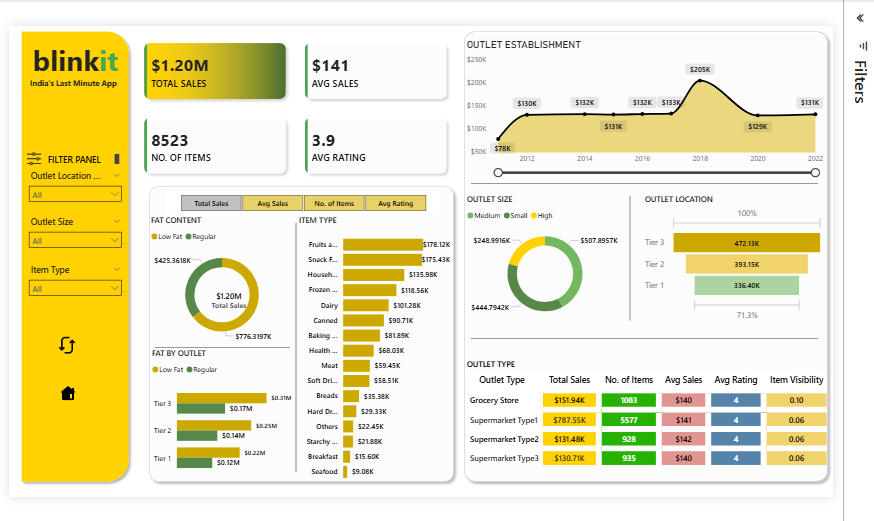

What the dashboard file says about the page in this screenshot:
{"tool":"powerbi","page":{"name":"Dashboard","canvas":[1400,800],"ordinal":0},"visuals":[{"type":"shape","box":[11.9,0,200.5,783.3],"z":0},{"type":"textbox","box":[24.4,18.3,178.3,79.2],"z":1000},{"type":"textbox","box":[30.5,83.8,161.5,27.4],"z":2000},{"type":"cardVisual","fields":{"Data":["BlinkIT Grocery Data.Total Sales","BlinkIT Grocery Data.Avg Sales","BlinkIT Grocery Data.No. of Items","BlinkIT Grocery Data.Avg Rating"]},"box":[200.5,0,572.6,280.3],"z":3000},{"type":"shape","box":[229.4,263.3,535.2,519.9],"z":4000},{"type":"donutChart","title":"FAT CONTENT","fields":{"Y":["BlinkIT Grocery Data.Total Sales"],"Category":["BlinkIT Grocery Data.Item Fat Content"]},"box":[236.2,321.1,251.5,226],"z":5000},{"type":"slicer","fields":{"Values":["Metrics .Metrics "]},"box":[266.7,280.3,465.5,40.8],"z":6000},{"type":"cardVisual","fields":{"Data":["BlinkIT Grocery Data.Total Sales"]},"box":[312.6,429.9,122.3,73.1],"z":7000},{"type":"clusteredBarChart","title":"FAT BY OUTLET","fields":{"Y":["BlinkIT Grocery Data.Total Sales"],"Category":["BlinkIT Grocery Data.Outlet Location Type"],"Series":["BlinkIT Grocery Data.Item Fat Content"]},"box":[237.9,547.1,251.5,229.4],"z":8000},{"type":"shape","box":[248.1,538.6,229.4,15.3],"z":9000},{"type":"shape","box":[477.4,334.7,20.4,423.1],"z":10000},{"type":"barChart","title":"ITEM TYPE","fields":{"Y":["BlinkIT Grocery Data.Total Sales"],"Category":["BlinkIT Grocery Data.Item Type"]},"box":[487.6,321.1,266.7,462.1],"z":11000},{"type":"shape","box":[764.6,0,635.4,783.3],"z":12000},{"type":"lineChart","title":"OUTLET ESTABLISHMENT ","fields":{"Y":["BlinkIT Grocery Data.Total Sales"],"Category":["BlinkIT Grocery Data.Outlet Establishment Year"]},"box":[773.1,22.1,615,237.9],"z":13000},{"type":"shape","box":[785,260,589.6,15.3],"z":14000},{"type":"donutChart","title":"OUTLET SIZE ","fields":{"Y":["BlinkIT Grocery Data.Total Sales"],"Category":["BlinkIT Grocery Data.Outlet Size"]},"box":[773.1,285.4,275.2,226],"z":15000},{"type":"shape","box":[1048.3,288.8,13.6,212.4],"z":16000},{"type":"funnel","title":"OUTLET LOCATION","fields":{"Y":["Sum(BlinkIT Grocery Data.Sales)"],"Category":["BlinkIT Grocery Data.Outlet Location Type"]},"box":[1075.5,285.4,312.6,220.9],"z":17000},{"type":"shape","box":[785,523.3,589.6,15.3],"z":18000},{"type":"pivotTable","title":"OUTLET TYPE","fields":{"Rows":["BlinkIT Grocery Data.Outlet Type"],"Values":["BlinkIT Grocery Data.Total Sales","BlinkIT Grocery Data.No. of Items","BlinkIT Grocery Data.Avg Sales","BlinkIT Grocery Data.Avg Rating","Avg(BlinkIT Grocery Data.Item Visibility)"]},"box":[773.1,565.8,626.9,202.2],"z":19000},{"type":"slicer","fields":{"Values":["BlinkIT Grocery Data.Outlet Location Type"]},"box":[23.8,239.6,178.4,79.9],"z":20000},{"type":"slicer","fields":{"Values":["BlinkIT Grocery Data.Outlet Size"]},"box":[23.8,317.7,178.4,74.8],"z":21000},{"type":"slicer","fields":{"Values":["BlinkIT Grocery Data.Item Type"]},"box":[23.8,399.3,178.4,76.5],"z":22000},{"type":"textbox","box":[37.4,212.4,154.6,27.2],"z":23000},{"type":"actionButton","box":[23.8,205.6,37.4,40.8],"z":24000},{"type":"actionButton","box":[81.6,518.2,34,47.6],"z":25000},{"type":"actionButton","box":[54.4,587.9,91.7,74.8],"z":26000}]}

Visuals, with their boxes on the page's 1400x800 design canvas (x1, y1, x2, y2). These are canvas units, not pixel positions in the 874x521 screenshot, which may show the page scaled, cropped or inside an application window:
shape: region(12, 0, 212, 783)
textbox: region(24, 18, 203, 98)
textbox: region(30, 84, 192, 111)
cardVisual - BlinkIT Grocery Data.Total Sales x BlinkIT Grocery Data.Avg Sales: region(200, 0, 773, 280)
shape: region(229, 263, 765, 783)
"FAT CONTENT" donutChart: region(236, 321, 488, 547)
slicer - Metrics .Metrics : region(267, 280, 732, 321)
cardVisual - BlinkIT Grocery Data.Total Sales: region(313, 430, 435, 503)
"FAT BY OUTLET" clusteredBarChart: region(238, 547, 489, 776)
shape: region(248, 539, 478, 554)
shape: region(477, 335, 498, 758)
"ITEM TYPE" barChart: region(488, 321, 754, 783)
shape: region(765, 0, 1400, 783)
"OUTLET ESTABLISHMENT " lineChart: region(773, 22, 1388, 260)
shape: region(785, 260, 1375, 275)
"OUTLET SIZE " donutChart: region(773, 285, 1048, 511)
shape: region(1048, 289, 1062, 501)
"OUTLET LOCATION" funnel: region(1076, 285, 1388, 506)
shape: region(785, 523, 1375, 539)
"OUTLET TYPE" pivotTable: region(773, 566, 1400, 768)
slicer - BlinkIT Grocery Data.Outlet Location Type: region(24, 240, 202, 320)
slicer - BlinkIT Grocery Data.Outlet Size: region(24, 318, 202, 392)
slicer - BlinkIT Grocery Data.Item Type: region(24, 399, 202, 476)
textbox: region(37, 212, 192, 240)
actionButton: region(24, 206, 61, 246)
actionButton: region(82, 518, 116, 566)
actionButton: region(54, 588, 146, 663)
